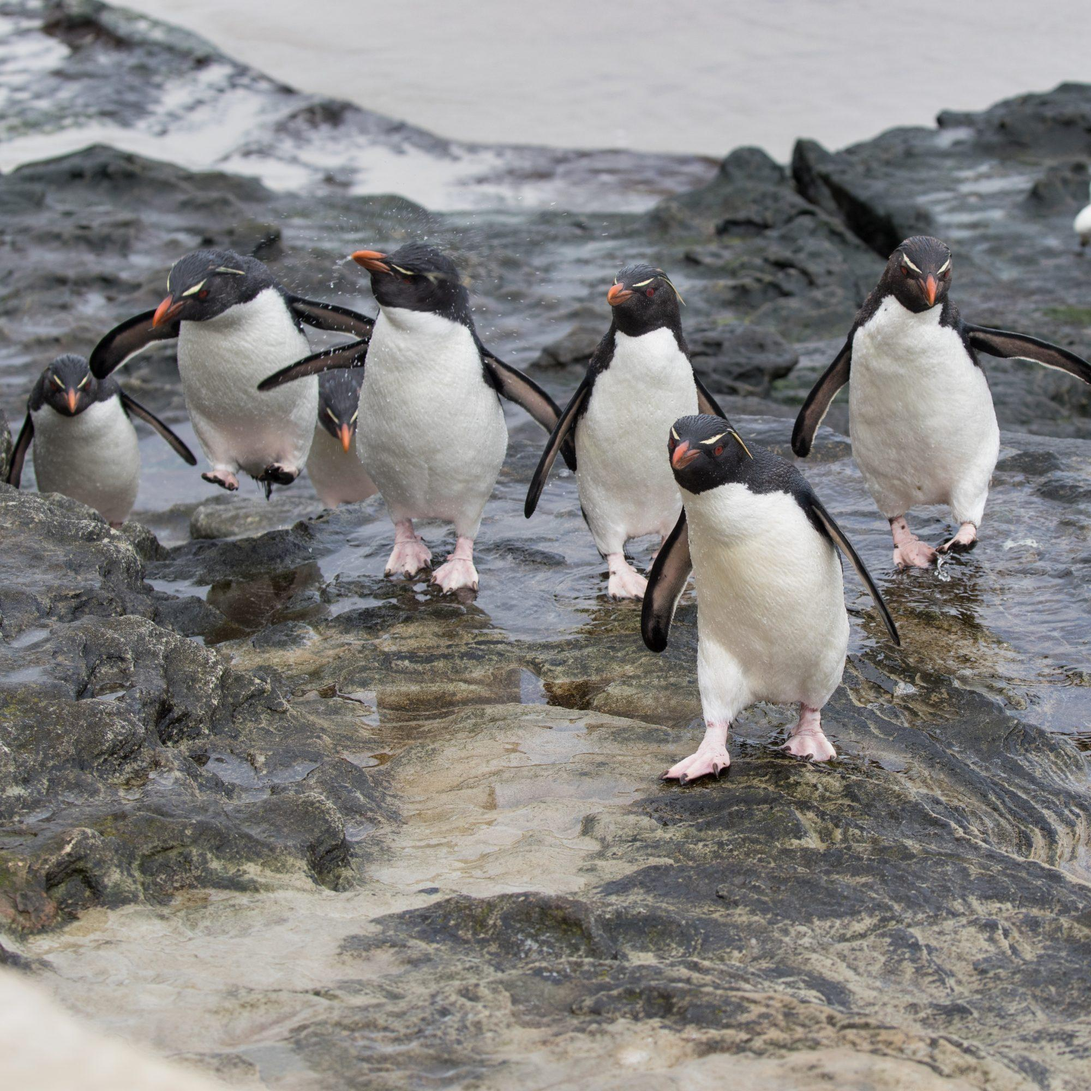Penguin: (257, 243, 560, 592), (790, 237, 1090, 567), (642, 416, 903, 782), (89, 248, 373, 501), (526, 264, 724, 598), (5, 353, 196, 528), (319, 368, 363, 453)
